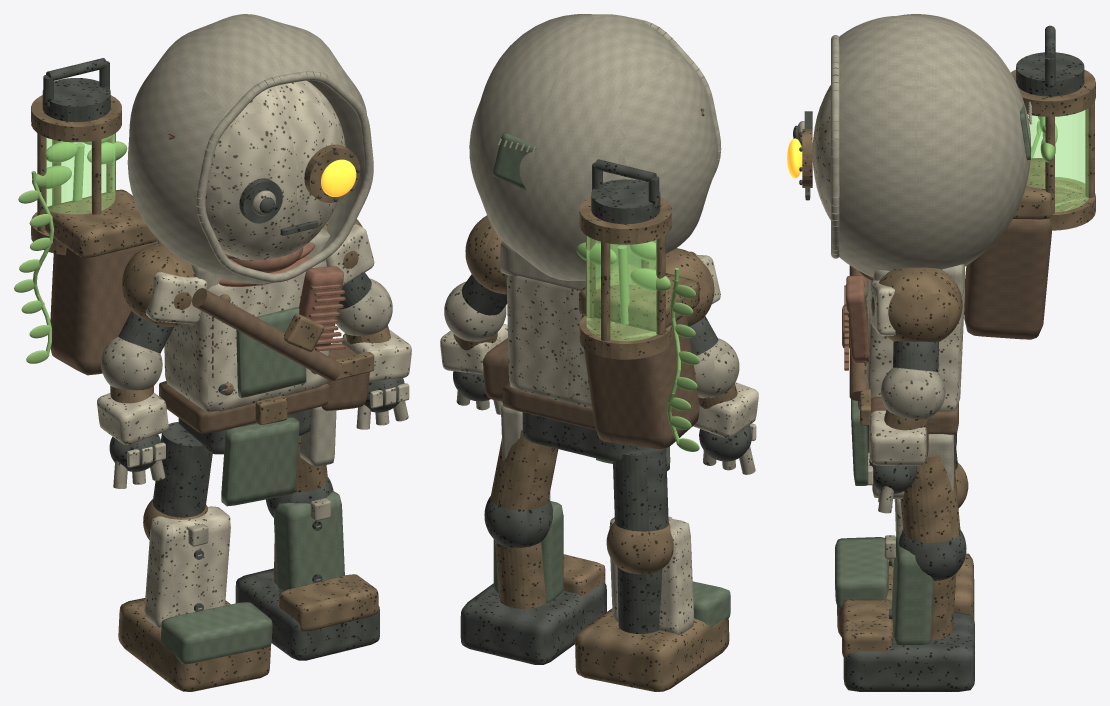
The model's file is last-light-robot-detailed.glb.
The picture shows the model from 3 angles, left to right: view 1: azimuth 30°, elevation 25°; view 2: azimuth 150°, elevation 25°; view 3: azimuth 270°, elevation 25°; orthographic projection.
Visible parts, largest first — view 1: tailored open hood, head shell, torso core, backpack body, left shin plate, front rag panel, left boot, right shin plate, left toe cap, right boot, backpack lid, lantern glass (+35 smaller); view 2: tailored open hood, torso core, backpack body, left boot, right boot, lantern glass, left thigh, right thigh, left shin plate, backpack lid, right ankle, waist joint (+30 smaller); view 3: tailored open hood, backpack body, right boot, right shoulder, lantern glass, right thigh, right shin plate, left toe cap, torso core, right elbow, right toe cap, right cuff (+22 smaller).
Part boxes in pixels (x1,y1,x2,y2): tailored open hood: (127,14,366,284); head shell: (205,80,345,260); torso core: (164,262,328,412); backpack body: (50,241,156,375); left shin plate: (144,506,230,627); front rag panel: (221,417,299,506); left boot: (118,598,270,691); right shin plate: (273,491,344,591); left toe cap: (160,602,272,664); right boot: (235,568,379,660); backpack lid: (45,189,156,258); lantern glass: (46,134,115,213); tailored open hood: (469,14,717,280); torso core: (506,275,592,408); backpack body: (581,314,699,449); left boot: (575,608,729,691); right boot: (460,582,606,664); lantern glass: (586,236,656,340); left thigh: (613,446,668,531); right thigh: (490,430,558,510); left shin plate: (609,517,693,634); backpack lid: (579,264,699,331); right ankle: (495,540,546,608); waist joint: (522,412,637,461); tailored open hood: (837,14,1031,276); backpack body: (964,218,1052,339); right boot: (843,612,974,691); right shoulder: (871,267,962,341); lantern glass: (1026,108,1088,211); right thigh: (900,455,960,542); right shin plate: (891,531,933,645); left toe cap: (835,537,888,609); torso core: (866,267,964,411); right elbow: (881,367,945,419); right toe cap: (842,599,893,659); right cuff: (869,410,926,465).
Size of the model in its own units: 1.92 by 3.64 by 1.62.
11 materials, 8 textured.
